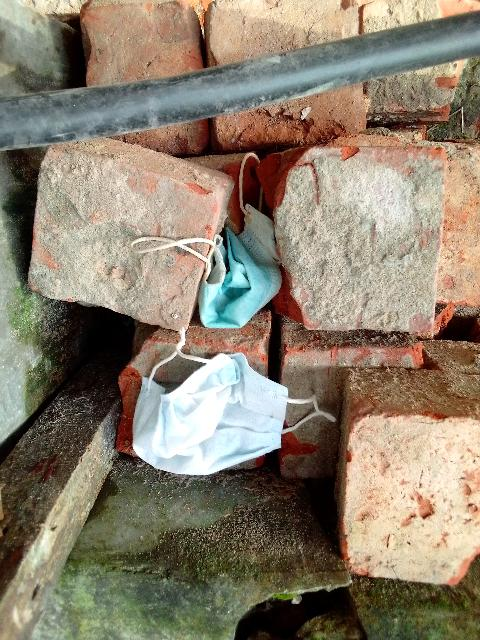mask: (127, 333, 290, 480), (158, 228, 285, 322)
